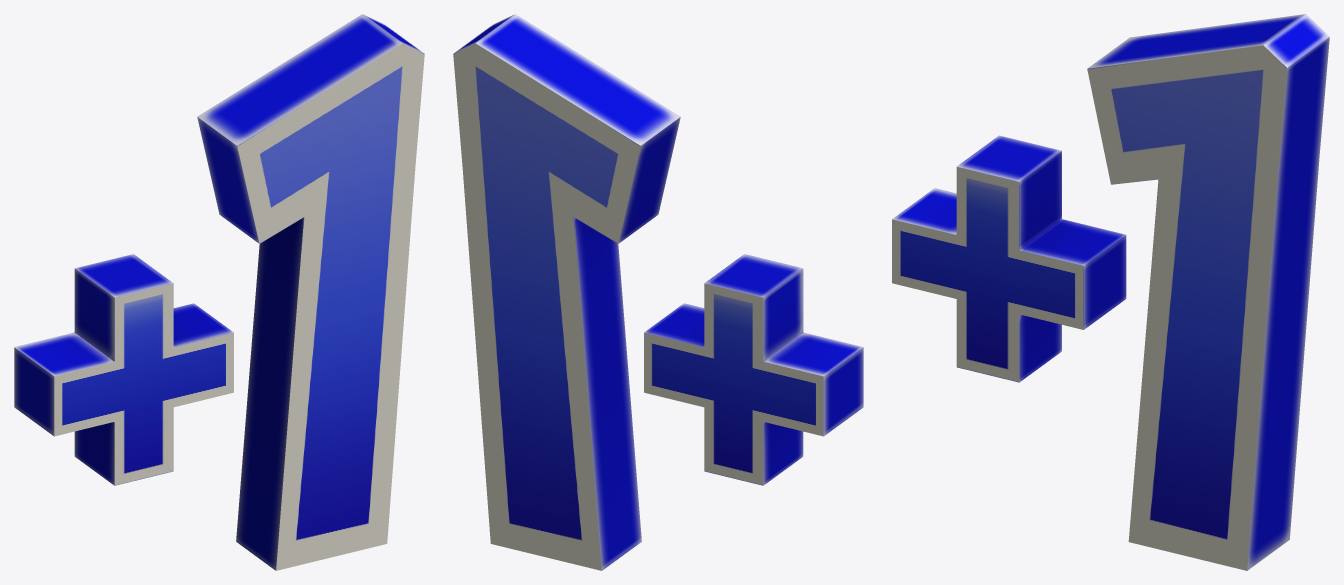
Rendered from ScoreBooster.fbx.
3 views of the same model, side by side, from view 1: azimuth 30°, elevation 25°; view 2: azimuth 150°, elevation 25°; view 3: azimuth 330°, elevation 25° (orthographic). The views are drawn at different scales.
Parts seen in each view (by area): view 1: ScoreBooster; view 2: ScoreBooster; view 3: ScoreBooster.
Part boxes in pixels (box(x1,y1,x2,y2)): ScoreBooster: box(14, 14, 424, 570); ScoreBooster: box(453, 14, 863, 570); ScoreBooster: box(892, 14, 1329, 570).
Size of the model in its own units: 25.04 by 32.07 by 4.68.
1 material, 1 textured.
